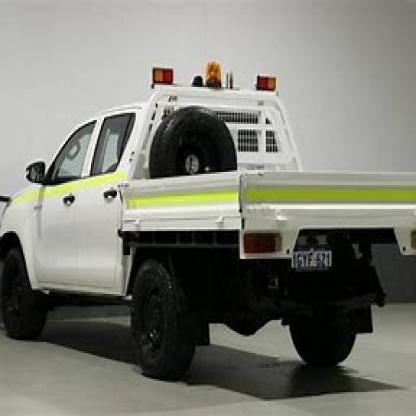light_vehicle: (0, 70, 415, 386)
